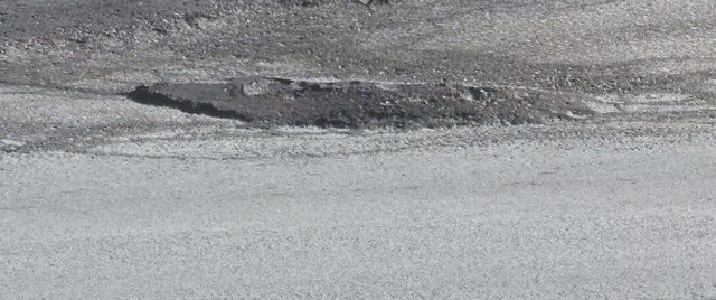pothole: (118, 75, 595, 141)
